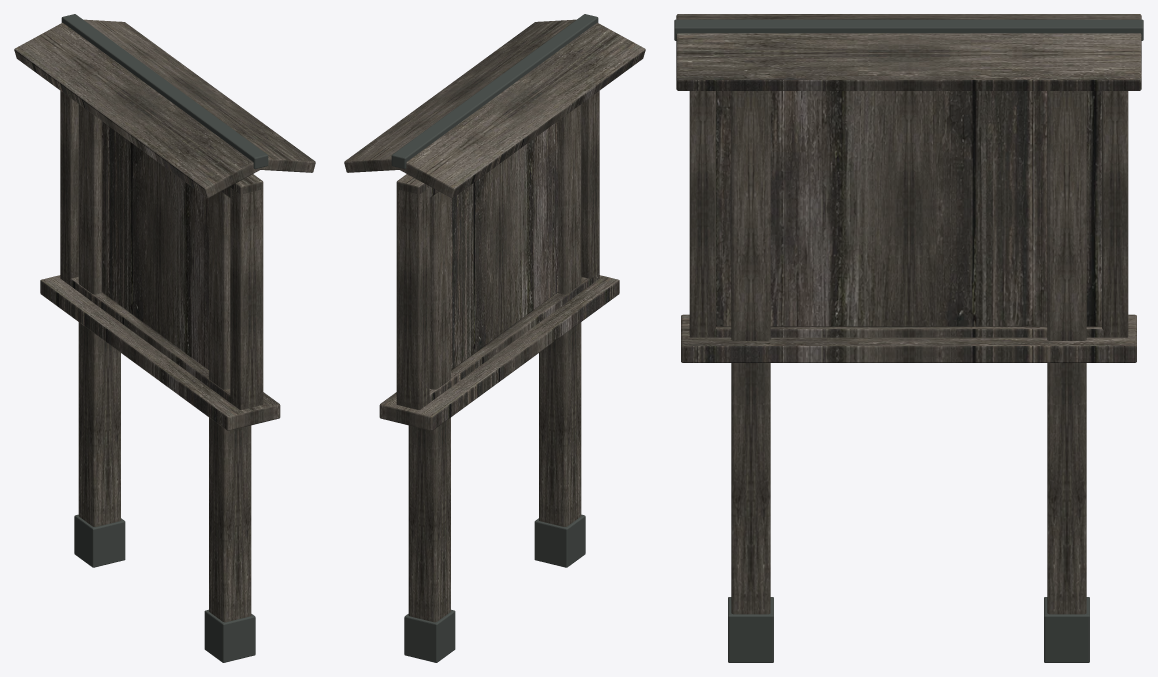
File: noticeboard.glb
The picture shows the model from 3 angles, left to right: view 1: azimuth 30°, elevation 25°; view 2: azimuth 150°, elevation 25°; view 3: azimuth 270°, elevation 25°; orthographic projection. The views are drawn at different scales.
Visible parts, largest first — view 1: noticeboard_Smoke-aged cedar.052, noticeboard_Bench dark iron.002; view 2: noticeboard_Smoke-aged cedar.052, noticeboard_Bench dark iron.002; view 3: noticeboard_Smoke-aged cedar.052, noticeboard_Bench dark iron.002.
Boxes of the visible parts, bbox=[...] form: noticeboard_Smoke-aged cedar.052: bbox=[14, 19, 315, 622]; noticeboard_Bench dark iron.002: bbox=[61, 14, 268, 662]; noticeboard_Smoke-aged cedar.052: bbox=[344, 19, 645, 622]; noticeboard_Bench dark iron.002: bbox=[391, 14, 598, 662]; noticeboard_Smoke-aged cedar.052: bbox=[676, 14, 1141, 614]; noticeboard_Bench dark iron.002: bbox=[674, 19, 1143, 662].
Bounding box in the file's own units: 0.3553 × 1.59 × 1.07.
2 materials, 1 textured.
